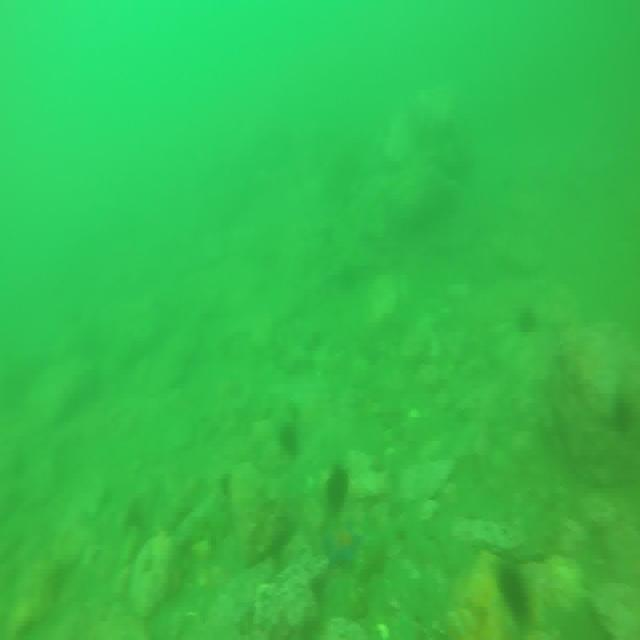echinus: (497, 564, 527, 626), (325, 459, 352, 515), (280, 417, 302, 458), (516, 300, 537, 336)
starfish: (324, 517, 358, 571)
